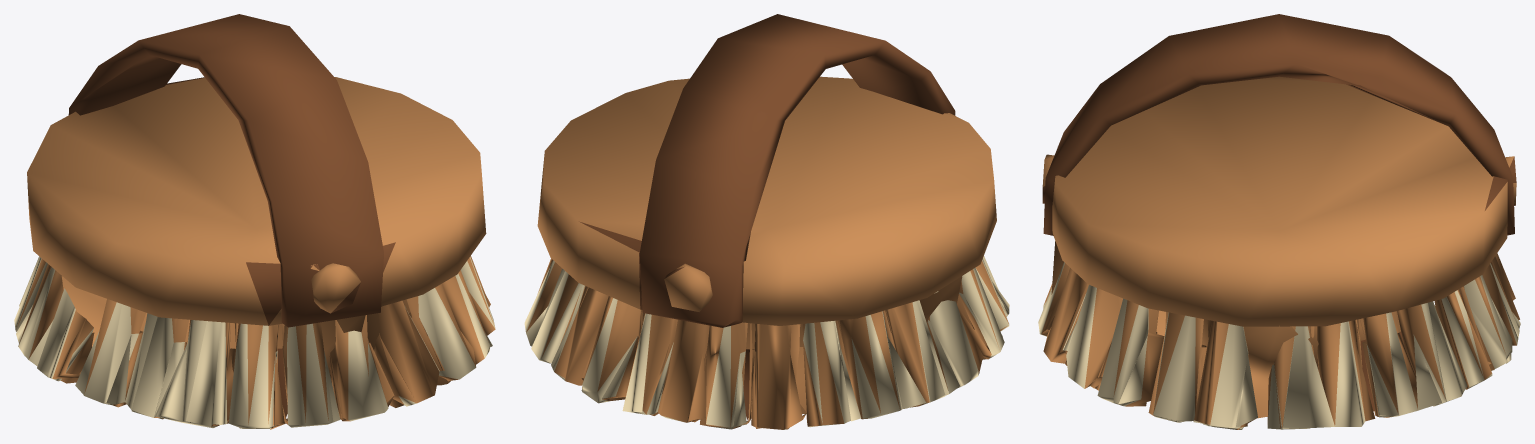
Rendered from Scrub_Brush.glb.
The picture shows the model from 3 angles, left to right: view 1: azimuth 30°, elevation 25°; view 2: azimuth 150°, elevation 25°; view 3: azimuth 270°, elevation 25°; orthographic projection.
Parts seen in each view (by area): view 1: tripo_node_1e9916a8-3abc-48a0-acff-193303771de8; view 2: tripo_node_1e9916a8-3abc-48a0-acff-193303771de8; view 3: tripo_node_1e9916a8-3abc-48a0-acff-193303771de8.
Boxes of the visible parts, left/top/right/bottom form: tripo_node_1e9916a8-3abc-48a0-acff-193303771de8: left=14, top=14, right=495, bottom=429; tripo_node_1e9916a8-3abc-48a0-acff-193303771de8: left=524, top=14, right=1009, bottom=429; tripo_node_1e9916a8-3abc-48a0-acff-193303771de8: left=1038, top=14, right=1520, bottom=429.
Bounding box in the file's own units: 0.55 × 0.3802 × 0.5485.
